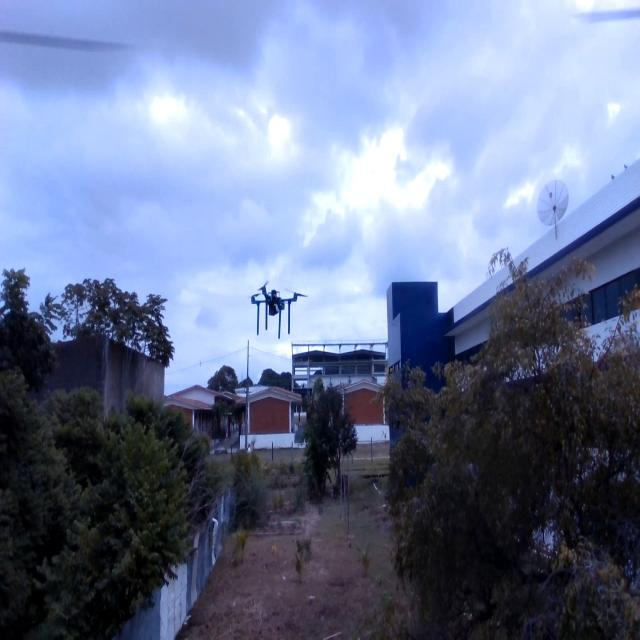-uav-: (248, 273, 308, 342)
